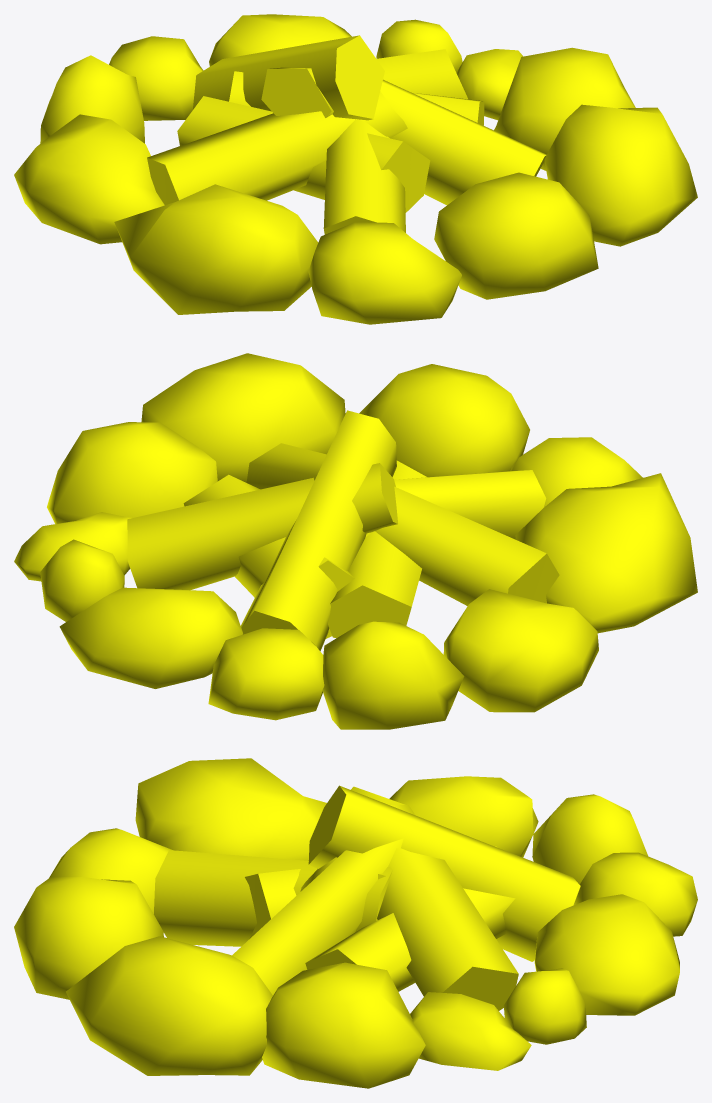
The model's file is SM_PROP_campfire.glb.
3 views of the same model, one above another, from view 1: azimuth 30°, elevation 25°; view 2: azimuth 150°, elevation 25°; view 3: azimuth 270°, elevation 25° (orthographic). The views are drawn at different scales.
Visible parts, largest first — view 1: SM_PROP_campfire; view 2: SM_PROP_campfire; view 3: SM_PROP_campfire.
Boxes of the visible parts, x1,y1,x2,y2 form: SM_PROP_campfire: [14, 14, 697, 324]; SM_PROP_campfire: [14, 353, 697, 729]; SM_PROP_campfire: [14, 758, 697, 1088].
Size of the model in its own units: 1.02 by 0.3275 by 1.05.
2 materials, 2 textured.
